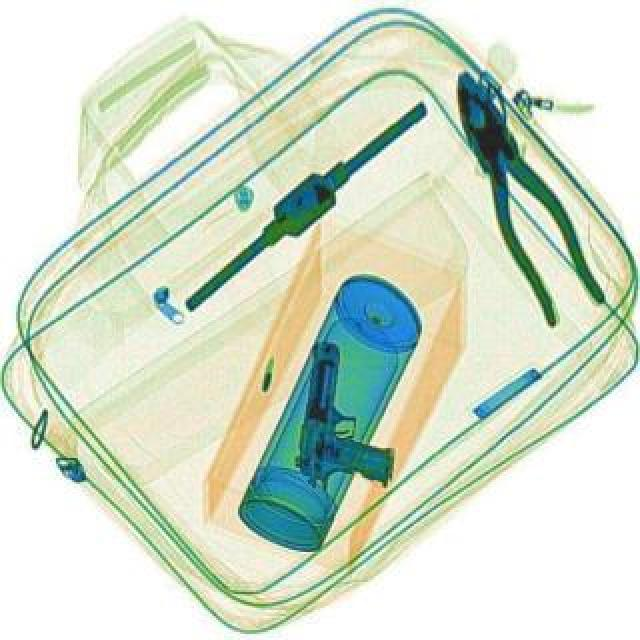gun: (292, 338, 408, 496)
wrench: (428, 56, 612, 332)
